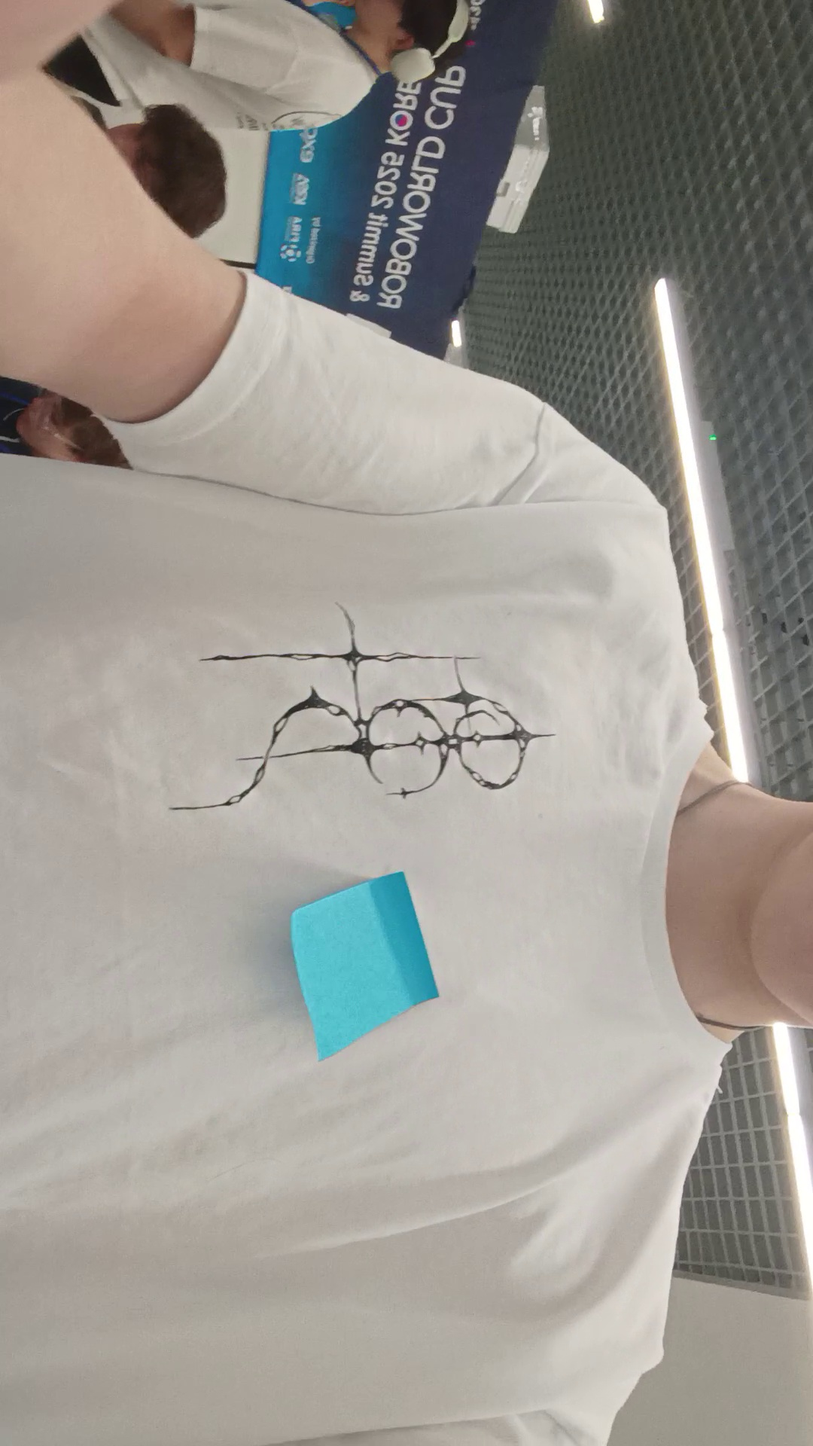marker: (257, 117, 351, 297), (349, 872, 437, 1023), (311, 3, 353, 26), (318, 1033, 330, 1054), (342, 997, 350, 1011), (337, 204, 343, 217), (332, 1023, 342, 1030), (339, 966, 346, 972), (373, 938, 379, 944), (324, 1013, 330, 1018)
